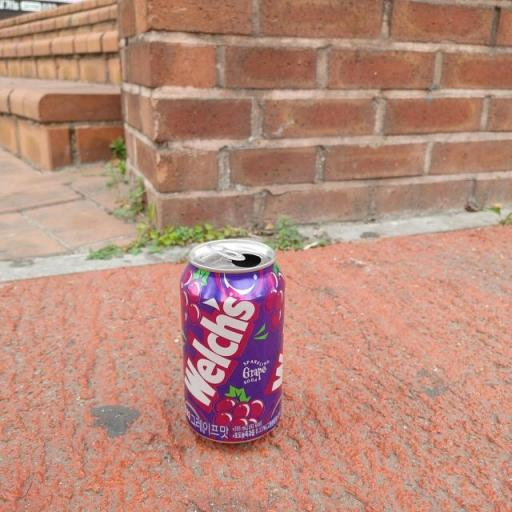metal: (146, 208, 324, 455)
